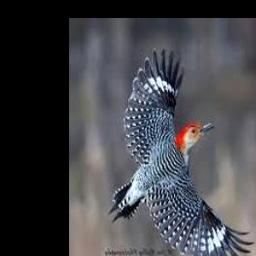Woodpecker: (108, 47, 254, 256)
